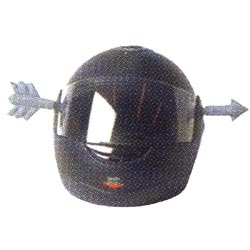helmet: (46, 55, 210, 206)
